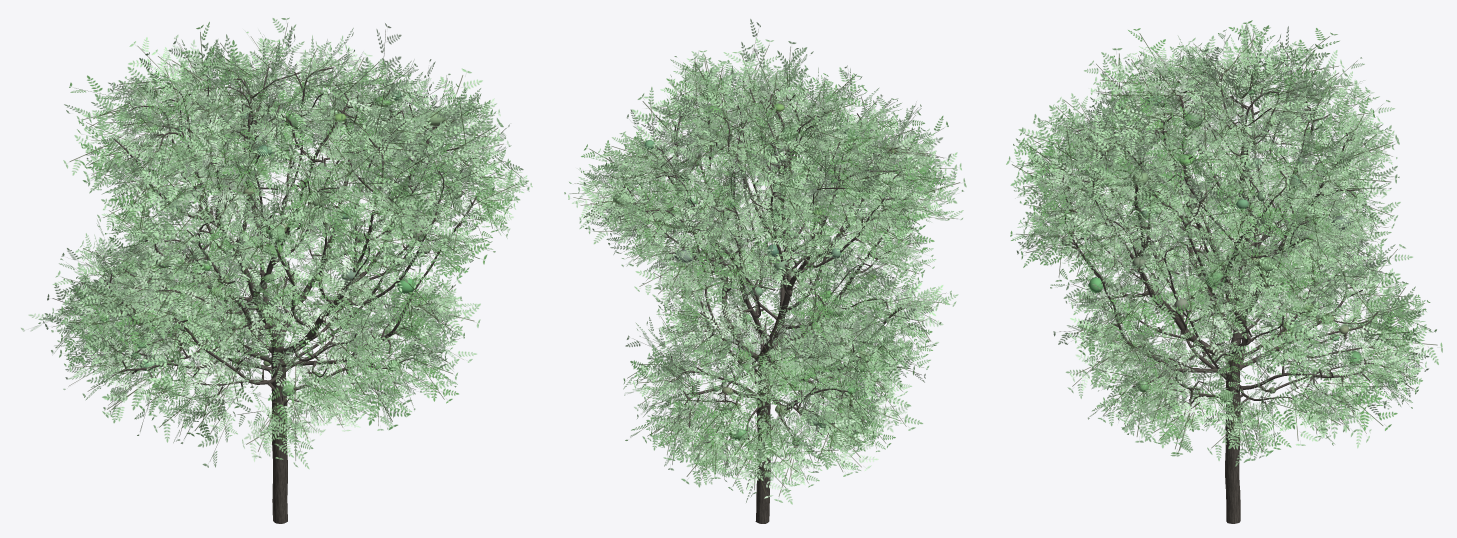
File: tree_69_broadleaf.glb
3 views of the same model, side by side, from view 1: azimuth 30°, elevation 25°; view 2: azimuth 150°, elevation 25°; view 3: azimuth 270°, elevation 25° (orthographic). The views are drawn at different scales.
Visible parts, largest first — view 1: tree_69_broadleaf.leaves, tree_69_broadleaf.trunk_branches, tree_69_broadleaf.foliage_volume; view 2: tree_69_broadleaf.leaves, tree_69_broadleaf.trunk_branches, tree_69_broadleaf.foliage_volume; view 3: tree_69_broadleaf.leaves, tree_69_broadleaf.trunk_branches, tree_69_broadleaf.foliage_volume.
Part boxes in pixels (bbox=[...]): tree_69_broadleaf.leaves: bbox=[21, 17, 532, 469]; tree_69_broadleaf.trunk_branches: bbox=[94, 66, 479, 523]; tree_69_broadleaf.foliage_volume: bbox=[99, 90, 462, 396]; tree_69_broadleaf.leaves: bbox=[564, 19, 966, 504]; tree_69_broadleaf.trunk_branches: bbox=[623, 81, 911, 523]; tree_69_broadleaf.foliage_volume: bbox=[613, 89, 896, 445]; tree_69_broadleaf.leaves: bbox=[1006, 20, 1442, 466]; tree_69_broadleaf.trunk_branches: bbox=[1061, 63, 1386, 523]; tree_69_broadleaf.foliage_volume: bbox=[1061, 89, 1361, 402].
Bounding box in the file's own units: 11.37 × 13.24 × 11.1.
3 materials, 2 textured.
